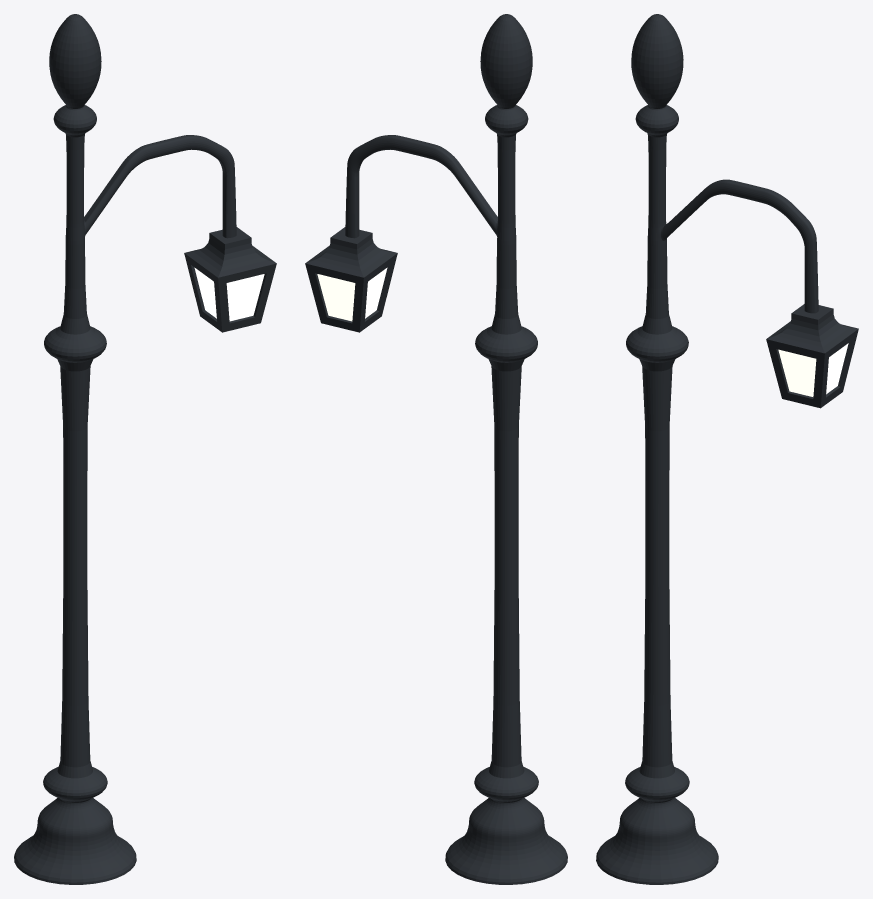
File: SM_Farol.fbx
3 views of the same model, side by side, from view 1: azimuth 30°, elevation 25°; view 2: azimuth 150°, elevation 25°; view 3: azimuth 330°, elevation 25° (orthographic).
Visible parts, largest first — view 1: SM_Farol; view 2: SM_Farol; view 3: SM_Farol.
Part boxes in pixels (x1,y1,x2,y2): SM_Farol: (14,14,276,884); SM_Farol: (305,14,567,884); SM_Farol: (596,14,858,884).
Size of what is drawn, in the model's own units: 136 by 60.71 by 460.
